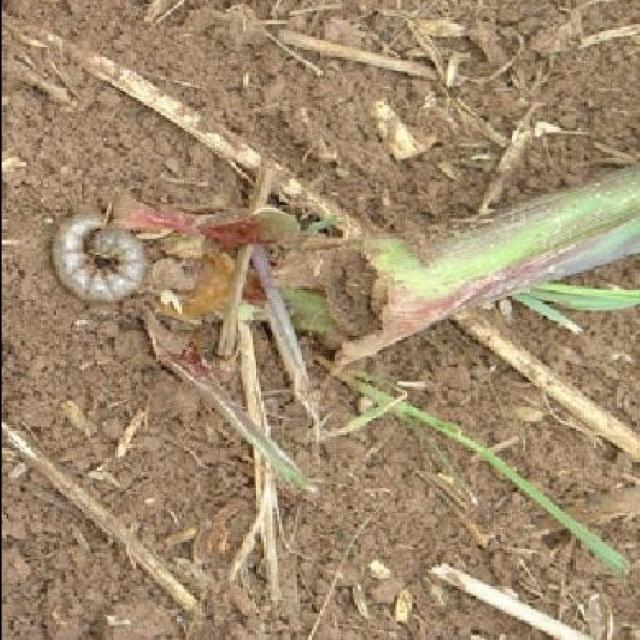black cutworm: (50, 210, 147, 314)
